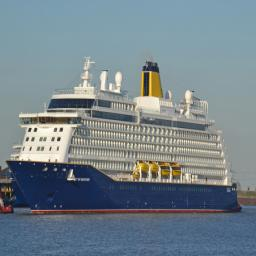cruises: (5, 54, 245, 218)
